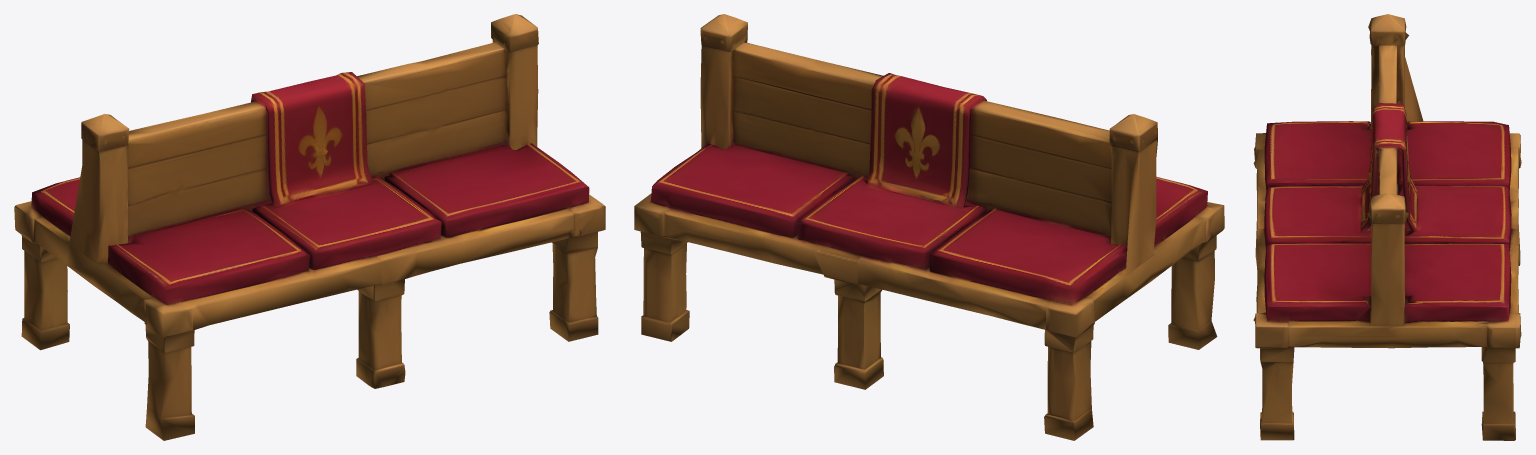
The model's file is vestibule-island-bench.glb.
3 views of the same model, side by side, from view 1: azimuth 30°, elevation 25°; view 2: azimuth 150°, elevation 25°; view 3: azimuth 270°, elevation 25° (orthographic). The views are drawn at different scales.
Parts seen in each view (by area): view 1: vestibule-island-bench; view 2: vestibule-island-bench; view 3: vestibule-island-bench.
Part boxes in pixels (x1,y1,x2,y2): vestibule-island-bench: (14,14,605,440); vestibule-island-bench: (634,14,1224,440); vestibule-island-bench: (1253,14,1521,440).
Size of the model in its own units: 1.8 by 1.05 by 1.05.
Materials: 1 (1 with a texture image).
